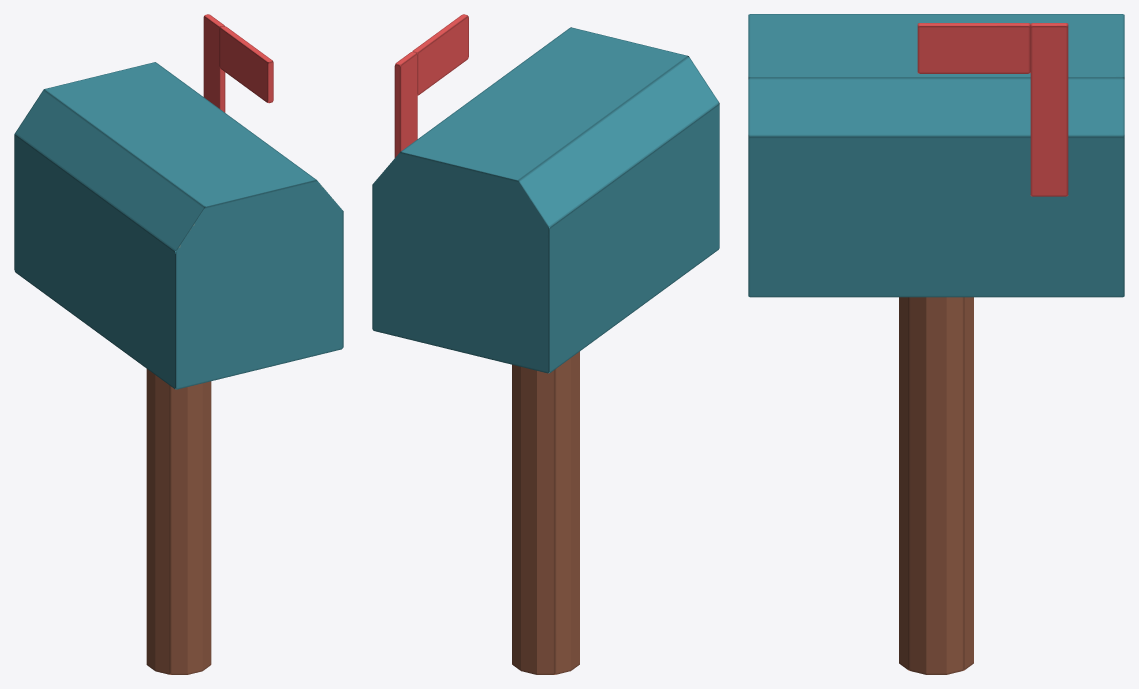
File: mailbox.obj
3 views of the same model, side by side, from view 1: azimuth 30°, elevation 25°; view 2: azimuth 150°, elevation 25°; view 3: azimuth 270°, elevation 25° (orthographic). The views are drawn at different scales.
Parts seen in each view (by area): view 1: mesh, cylinder; view 2: mesh, cylinder; view 3: mesh, cylinder.
Part boxes in pixels (x1,y1,x2,y2): mesh: (14, 14, 343, 389); cylinder: (146, 369, 211, 674); mesh: (372, 14, 719, 373); cylinder: (512, 351, 579, 674); mesh: (748, 14, 1124, 297); cylinder: (899, 297, 973, 674).
Bounding box in the file's own units: 0.3812 × 1.25 × 0.625.
1 material, 1 textured.
